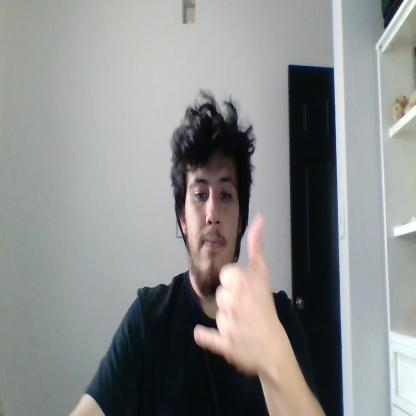Y: (194, 216, 276, 368)
